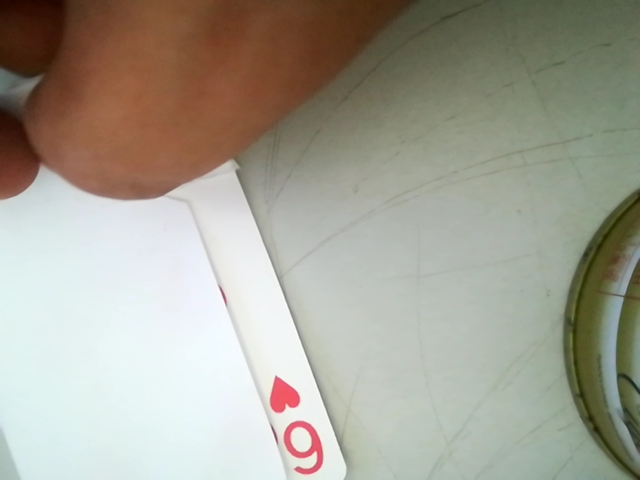hx 6: (256, 368, 335, 480)
